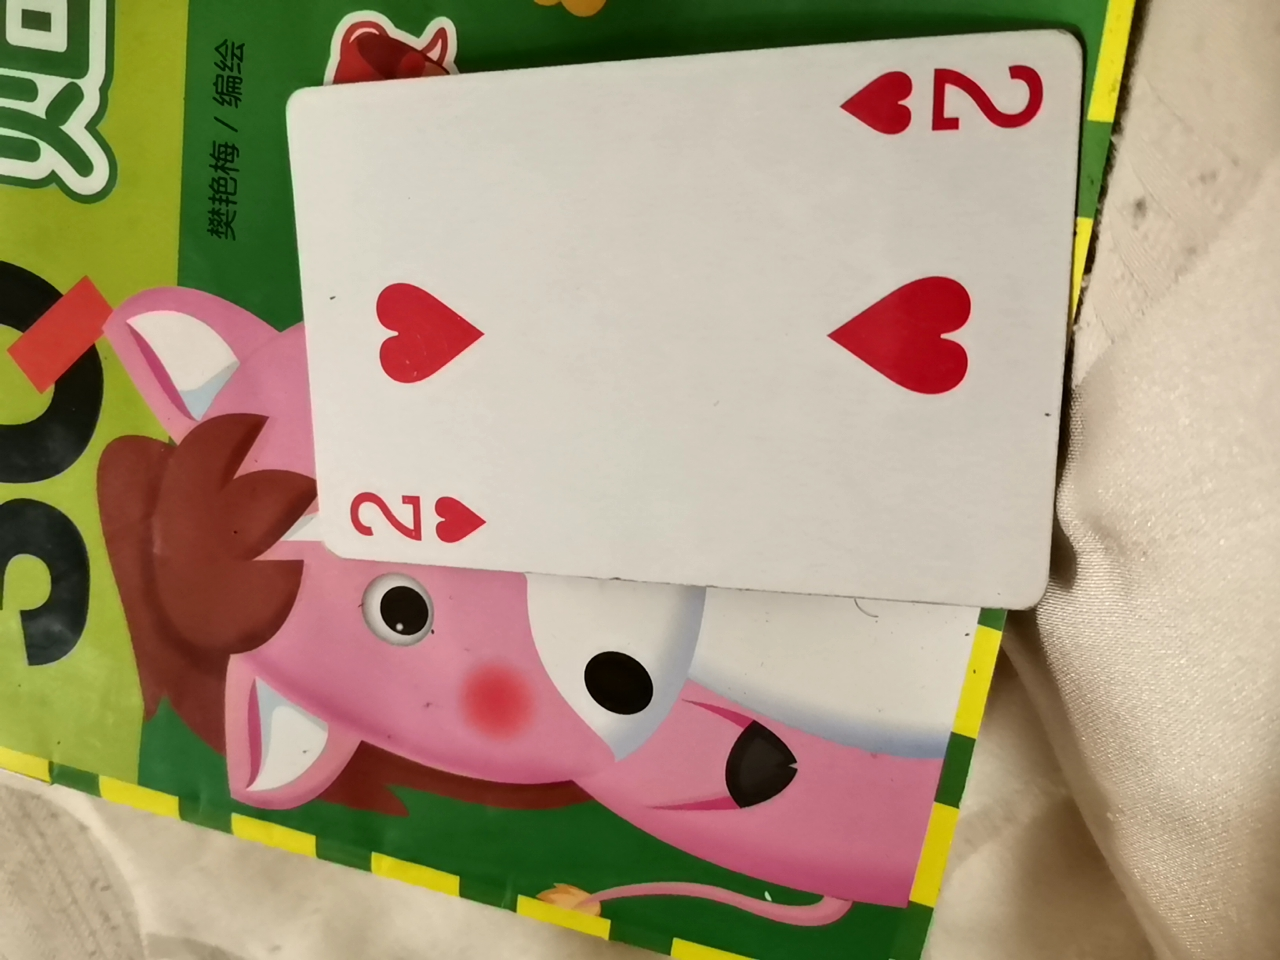hx 2: (261, 26, 1081, 628)
